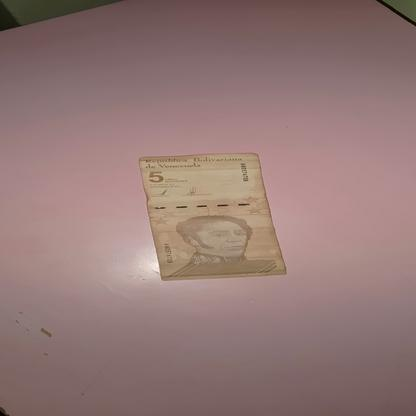five-front-vef: (139, 153, 287, 280)
